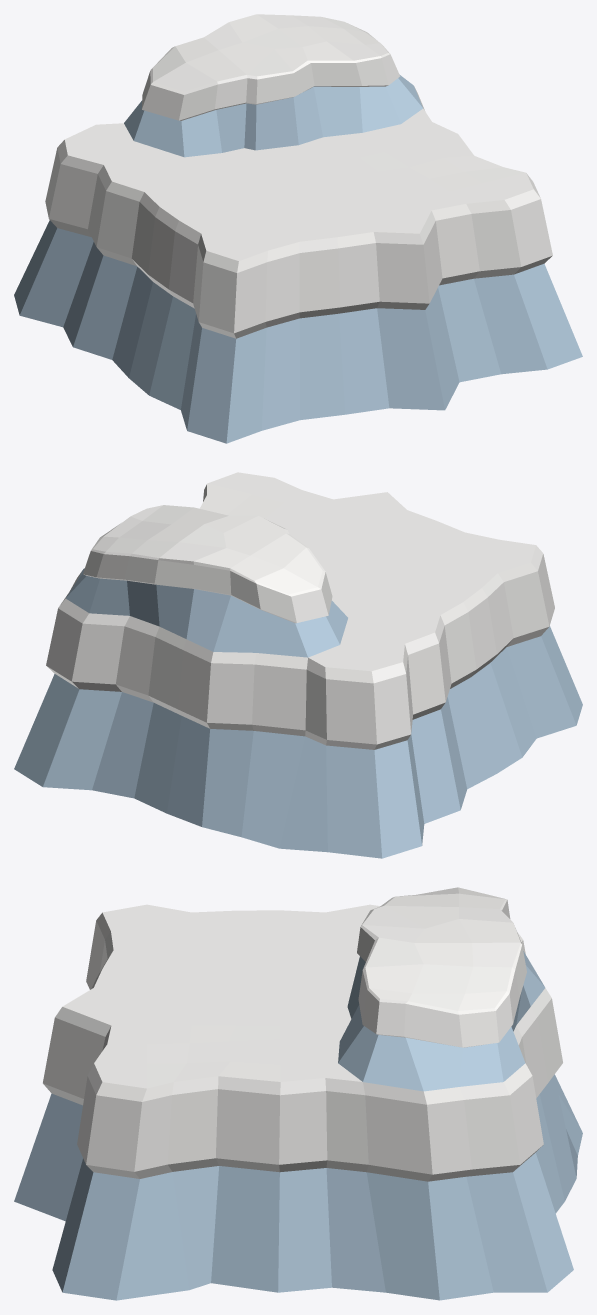
The model's file is Isl_16_Base.fbx.
3 views of the same model, one above another, from view 1: azimuth 30°, elevation 25°; view 2: azimuth 150°, elevation 25°; view 3: azimuth 270°, elevation 25° (orthographic). The views are drawn at different scales.
Visible parts, largest first — view 1: Isl_16_Base; view 2: Isl_16_Base; view 3: Isl_16_Base.
Boxes of the visible parts, left/top/right/bottom form: Isl_16_Base: left=14, top=14, right=582, bottom=443; Isl_16_Base: left=14, top=472, right=582, bottom=858; Isl_16_Base: left=14, top=887, right=582, bottom=1300.
Bounding box in the file's own units: 2165 × 2296 × 1230.
1 material, 1 textured.
